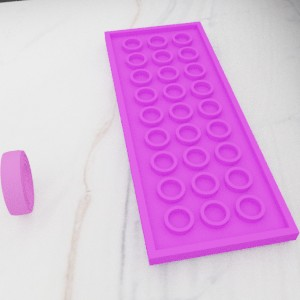lego: (103, 21, 300, 265), (0, 149, 34, 215)
